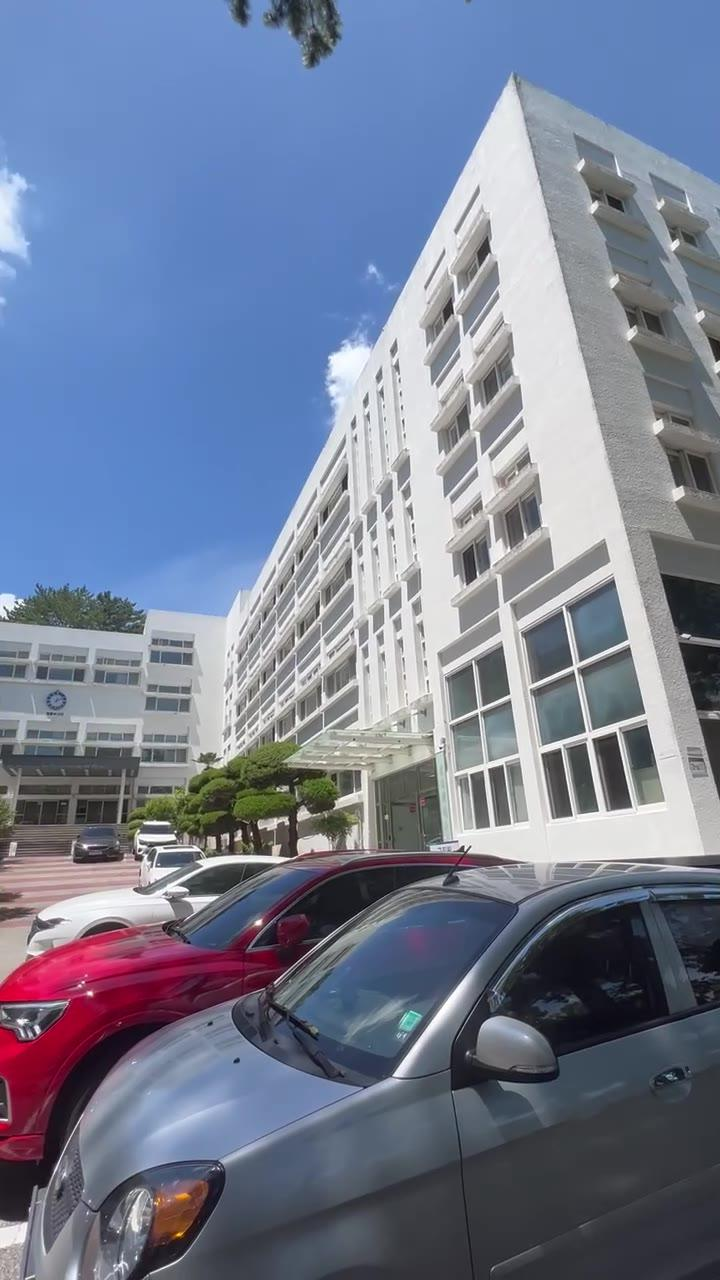building: (6, 68, 720, 812)
